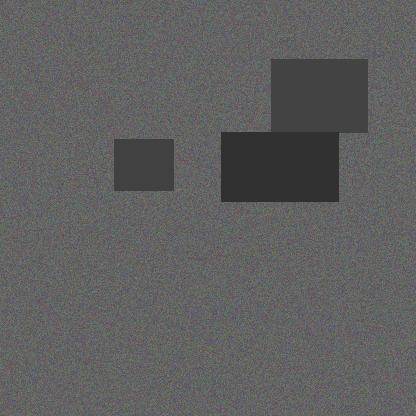empty: (101, 204, 175, 287)
